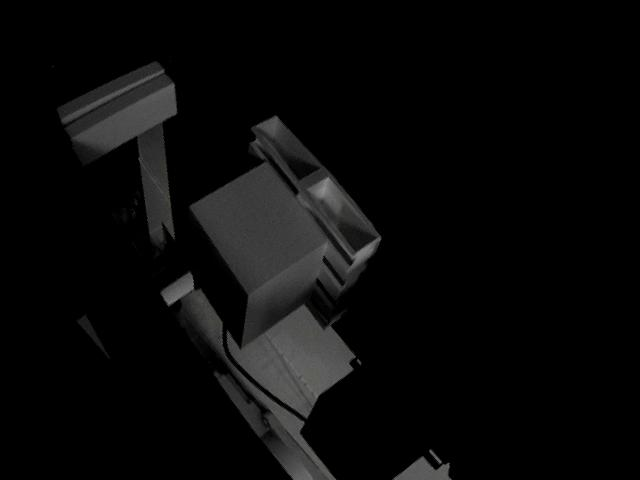black pallet: (298, 326, 485, 478)
white pallet: (181, 112, 385, 352)
